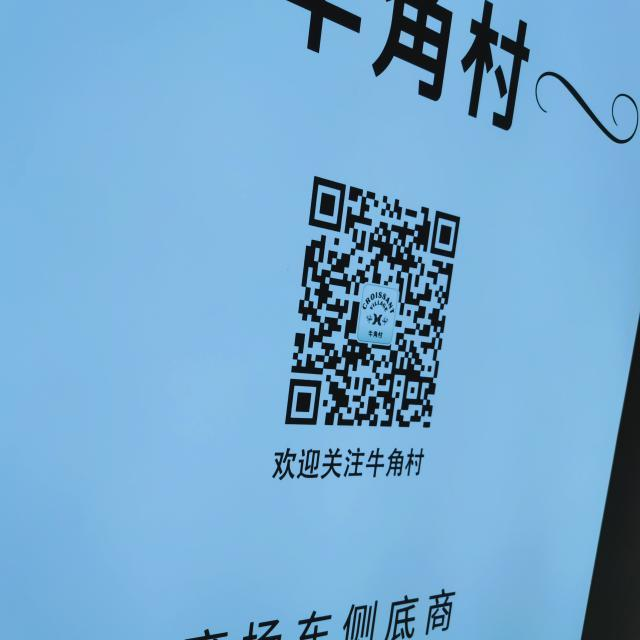qr_code: (284, 175, 462, 432)
